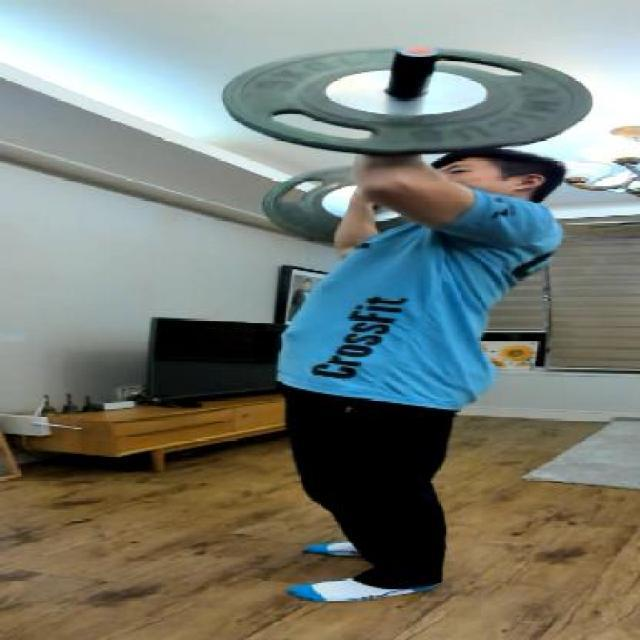Barbell: (393, 41, 447, 61)
